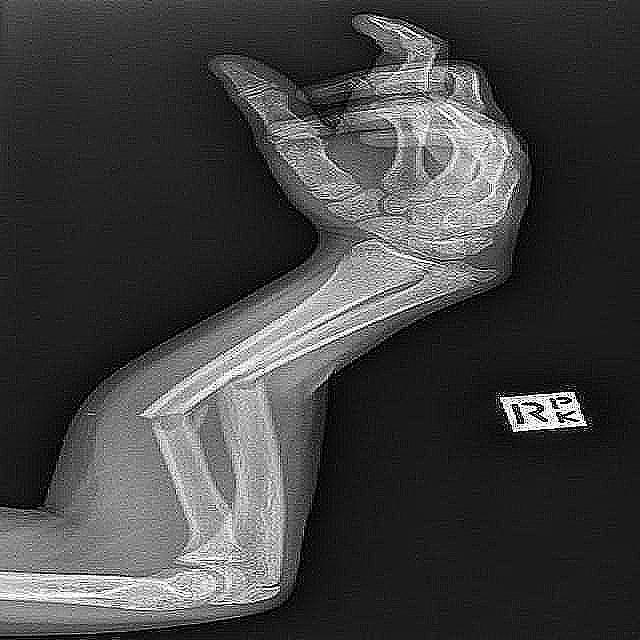bone: (133, 374, 216, 452), (219, 363, 277, 408)
